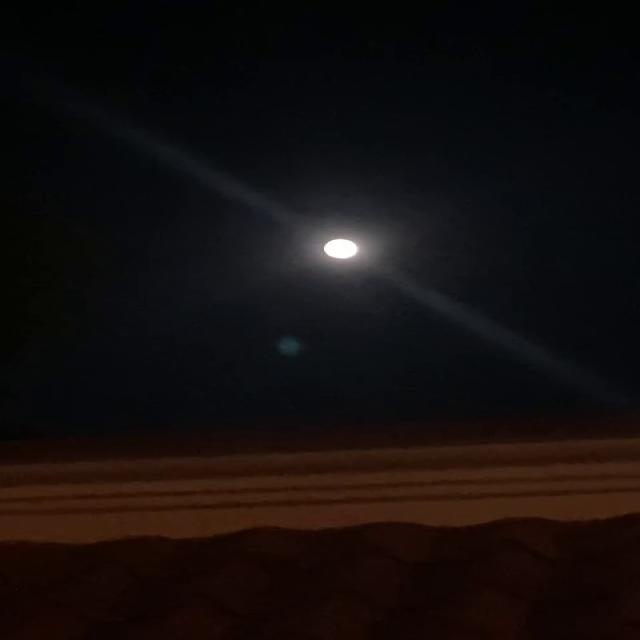moon: (320, 239, 362, 263)
